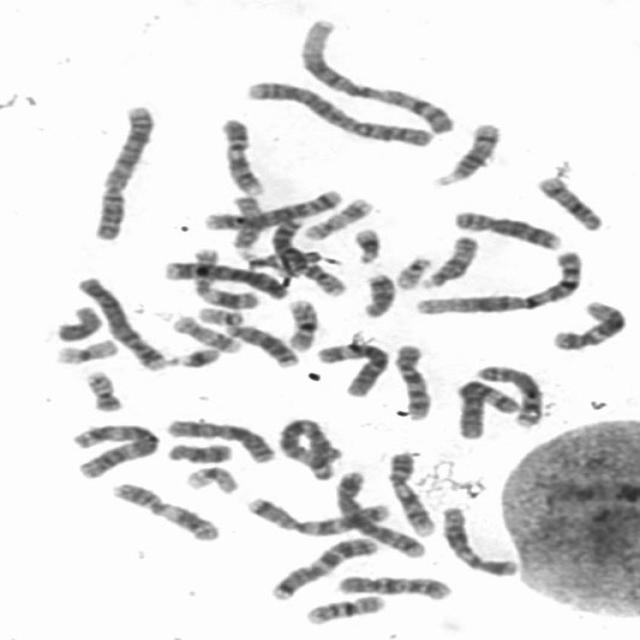A1: (293, 12, 460, 138), (408, 245, 588, 317)
A2: (241, 74, 442, 148), (84, 99, 157, 243)
A3: (66, 418, 163, 481), (272, 413, 344, 482)
B4: (72, 271, 171, 372), (158, 255, 293, 301)
B5: (328, 466, 427, 559), (197, 185, 346, 232)
C10: (333, 570, 456, 602), (389, 339, 435, 422)
C11: (106, 477, 227, 543), (187, 244, 263, 311)
C12: (434, 500, 521, 578), (548, 296, 632, 352)
C6: (449, 374, 522, 441), (310, 337, 390, 398)
C7: (264, 532, 381, 601), (241, 493, 395, 537)
C8: (448, 204, 567, 251), (470, 359, 548, 429)
C9: (382, 448, 438, 538), (215, 113, 269, 198)
D13: (219, 319, 300, 369), (270, 213, 314, 269)
D14: (428, 117, 504, 189), (532, 170, 606, 232)
D15: (416, 230, 482, 290), (226, 190, 266, 254)
E16: (299, 590, 389, 627), (280, 294, 322, 352)
E17: (302, 192, 379, 241), (167, 310, 245, 354)
E18: (356, 268, 398, 320), (161, 438, 235, 464)
F19: (50, 334, 122, 366), (179, 462, 241, 495)
F20: (78, 365, 126, 413), (299, 260, 347, 297)
G21: (160, 342, 223, 370), (347, 222, 385, 264)
G22: (391, 251, 436, 291), (192, 302, 247, 326)
X: (160, 414, 277, 465)
Y: (49, 301, 106, 343)
